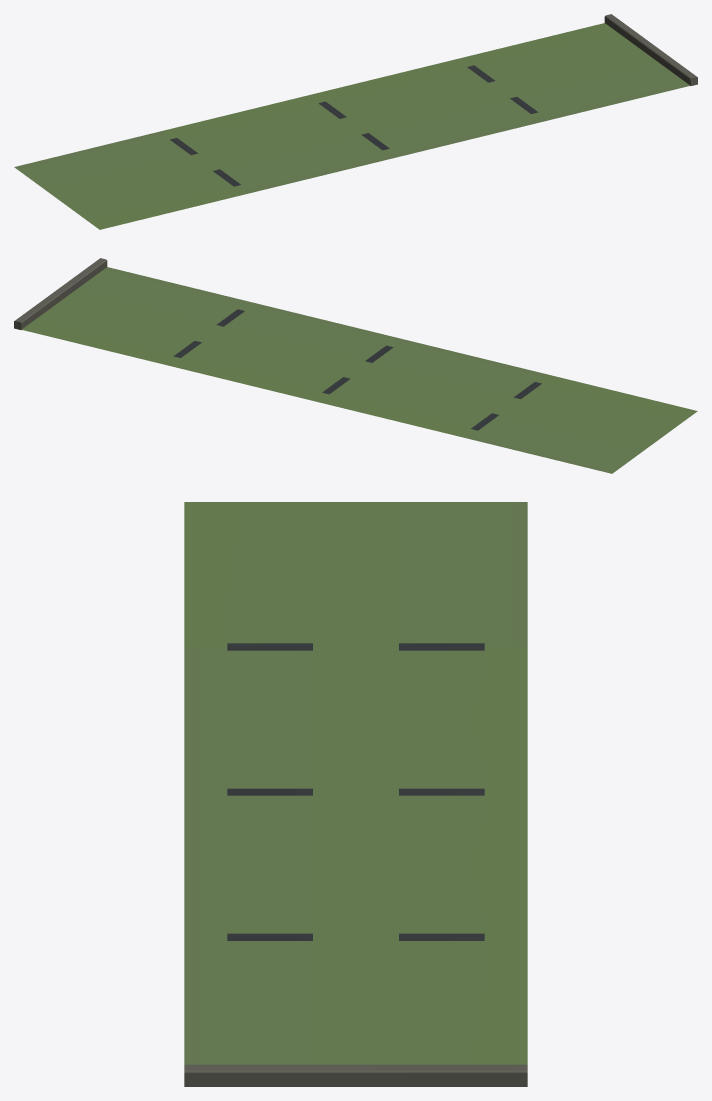
The model's file is Road_42.fbx.
The picture shows the model from 3 angles, top to bottom: view 1: azimuth 30°, elevation 25°; view 2: azimuth 150°, elevation 25°; view 3: azimuth 270°, elevation 25°; orthographic projection. The views are drawn at different scales.
Parts seen in each view (by area): view 1: Road_42; view 2: Road_42; view 3: Road_42.
Part boxes in pixels (<box>): Road_42: <box>14,14,697,229</box>; Road_42: <box>14,258,697,473</box>; Road_42: <box>184,502,527,1086</box>.
Size of the model in its own units: 12.08 by 0.15 by 3.
